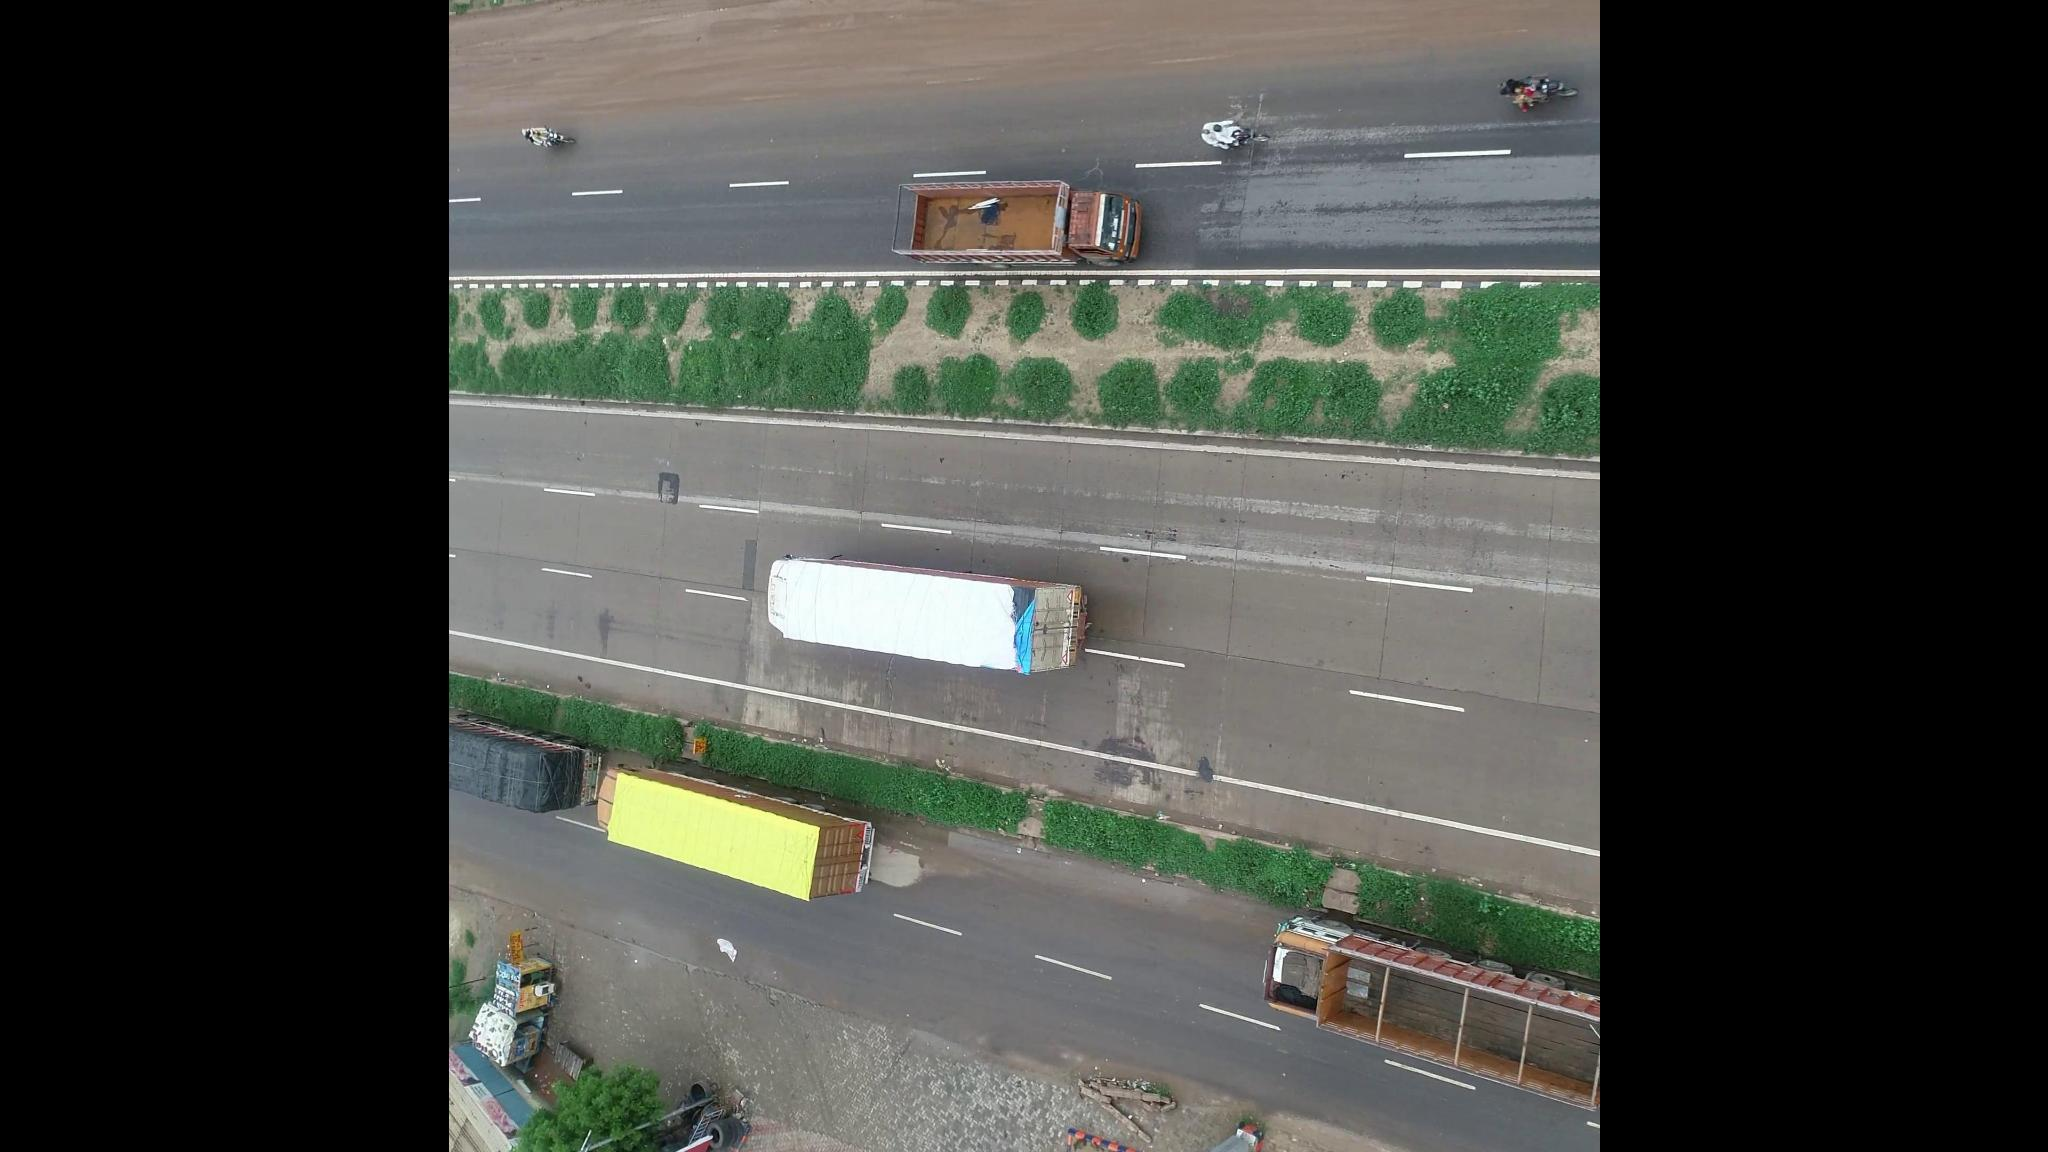Muddy_road: (473, 1, 824, 104), (840, 1, 1222, 72), (1234, 1, 1592, 46)
